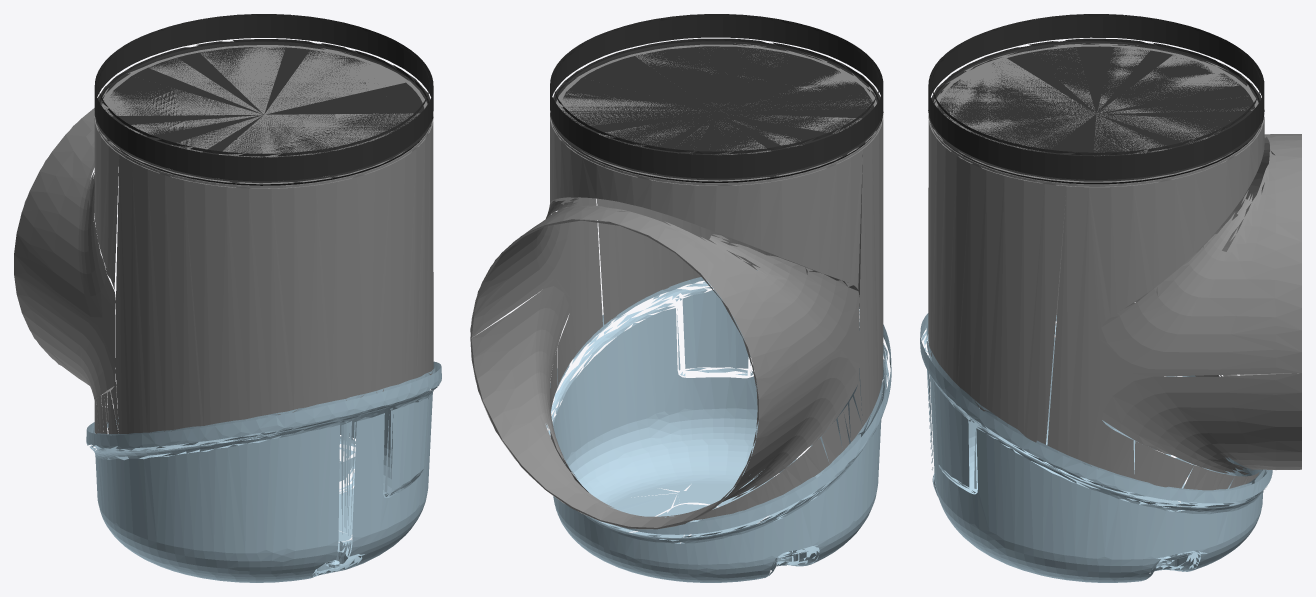
The model's file is ur5e-wrist2.glb.
3 renders of one model, left to right at view 1: azimuth 30°, elevation 25°; view 2: azimuth 150°, elevation 25°; view 3: azimuth 270°, elevation 25°, orthographic.
Visible parts, largest first — view 1: ur5e-wrist2; view 2: ur5e-wrist2; view 3: ur5e-wrist2.
Boxes of the visible parts, <box> form: ur5e-wrist2: <box>14,14,441,582</box>; ur5e-wrist2: <box>470,14,891,582</box>; ur5e-wrist2: <box>920,14,1301,582</box>.
Bounding box in the file's own units: 0.0787 × 0.1099 × 0.0852.
